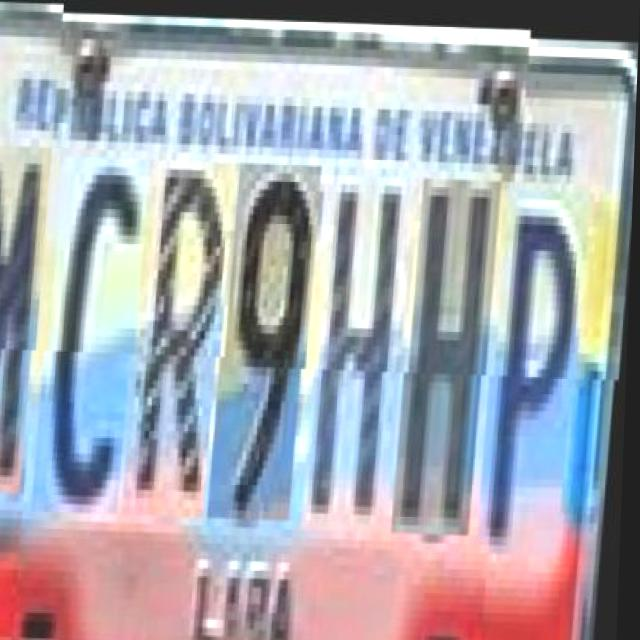9: (220, 160, 325, 517)
c: (44, 155, 152, 512)
h: (315, 163, 420, 529), (405, 174, 505, 532)
m: (0, 153, 55, 502)
p: (489, 178, 595, 543)
r: (134, 158, 239, 516)
